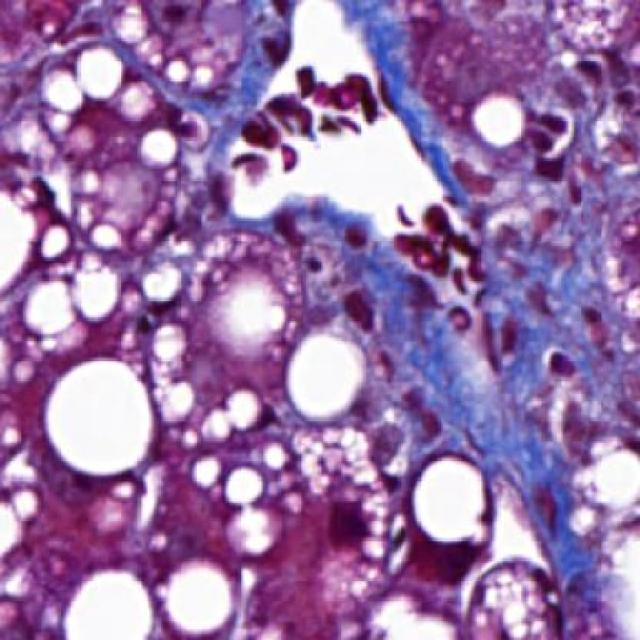inflammation: (522, 104, 580, 174), (15, 169, 81, 228)
